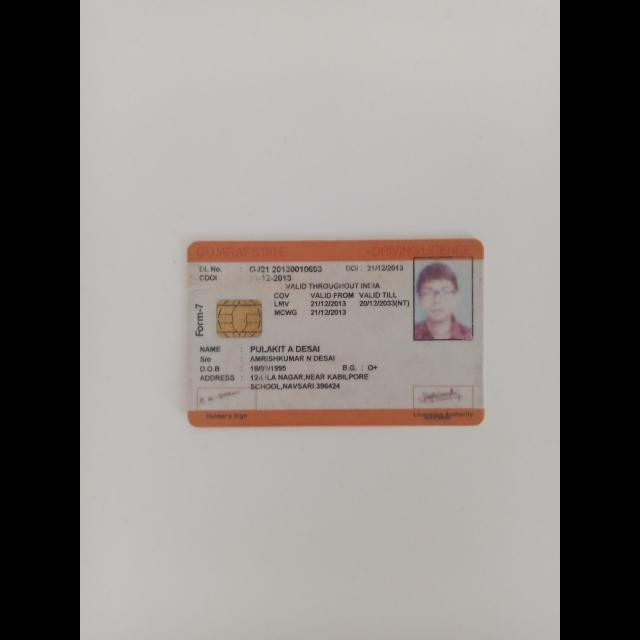driving_licence: (183, 234, 491, 434)
